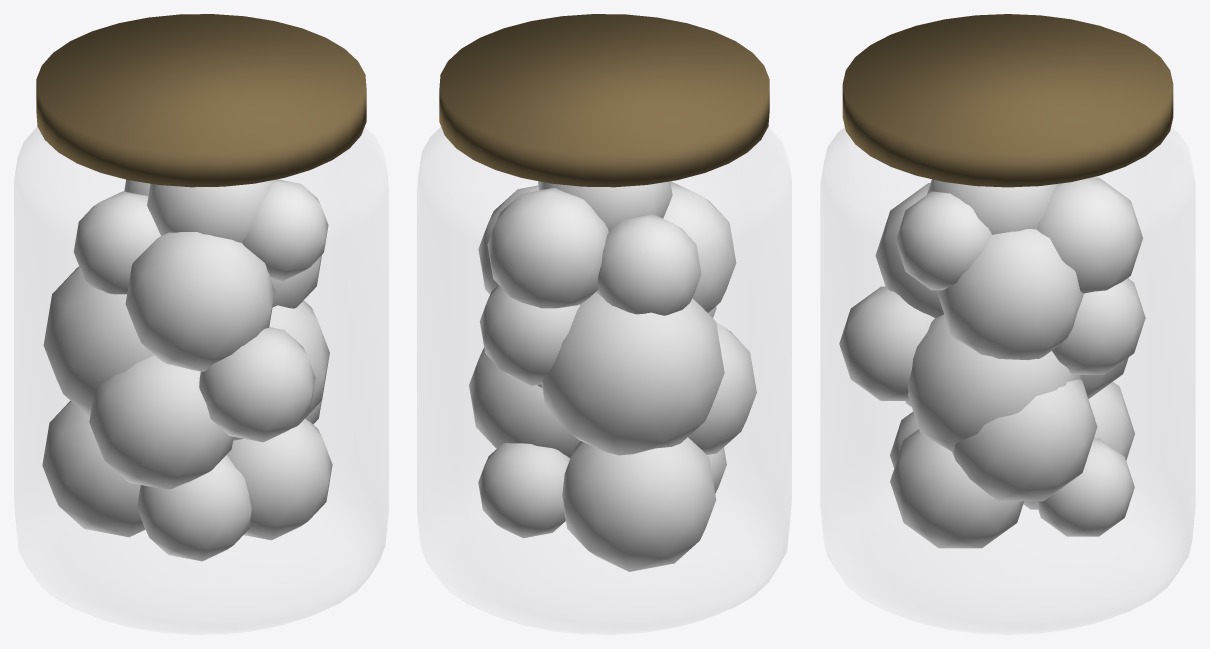
Rendered from Cloud Bottle.fbx.
3 renders of one model, left to right at view 1: azimuth 30°, elevation 25°; view 2: azimuth 150°, elevation 25°; view 3: azimuth 270°, elevation 25°, orthographic.
Visible parts, largest first — view 1: Cloud Bottle; view 2: Cloud Bottle; view 3: Cloud Bottle.
Boxes of the visible parts, left/top/right/bottom form: Cloud Bottle: left=14, top=14, right=388, bottom=634; Cloud Bottle: left=417, top=14, right=791, bottom=634; Cloud Bottle: left=821, top=14, right=1194, bottom=634.
Size of the model in its own units: 23.26 by 33.17 by 23.26.
